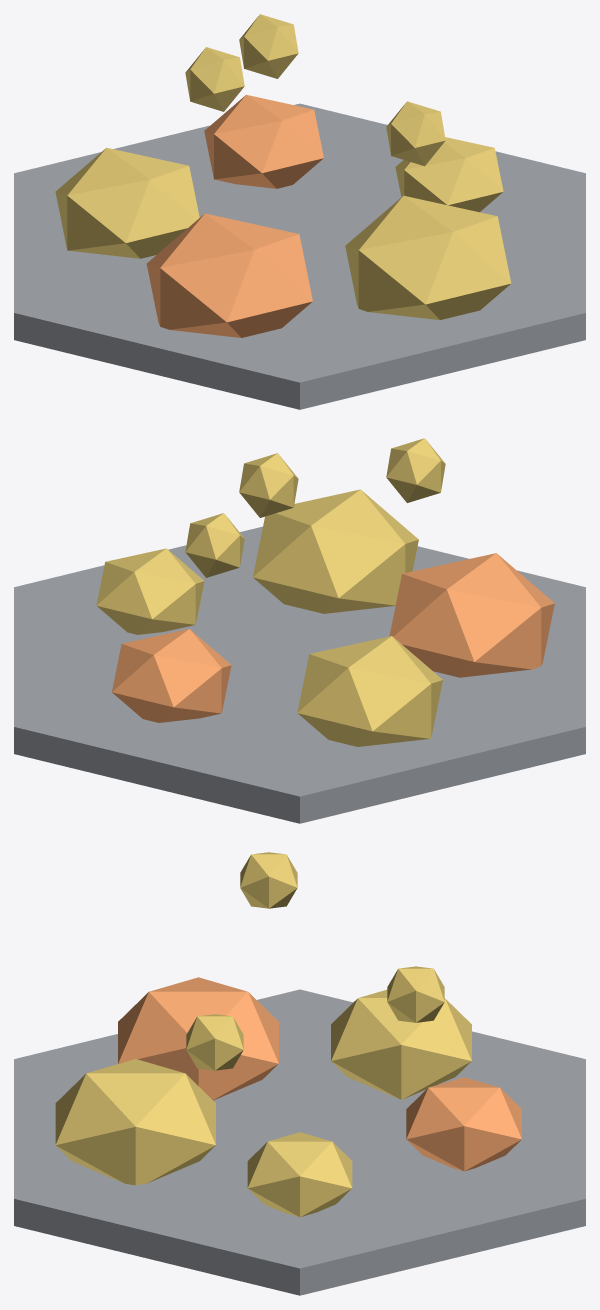
The model's file is animprop_campfire_ember_07.glb.
3 renders of one model, top to bottom at view 1: azimuth 30°, elevation 25°; view 2: azimuth 150°, elevation 25°; view 3: azimuth 270°, elevation 25°, orthographic.
Visible parts, largest first — view 1: animprop; view 2: animprop; view 3: animprop.
Boxes of the visible parts, box(x1,y1,x2,y2) form: animprop: box(14, 14, 585, 409); animprop: box(14, 438, 585, 823); animprop: box(14, 852, 585, 1295).
Size of the model in its own units: 0.88 by 0.3716 by 0.7621.
